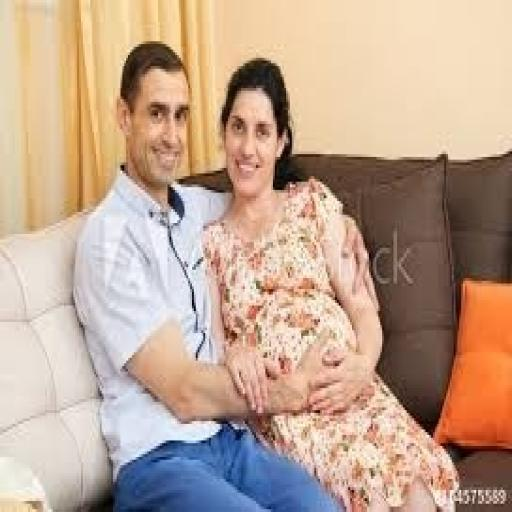sitting: (70, 36, 459, 509)
